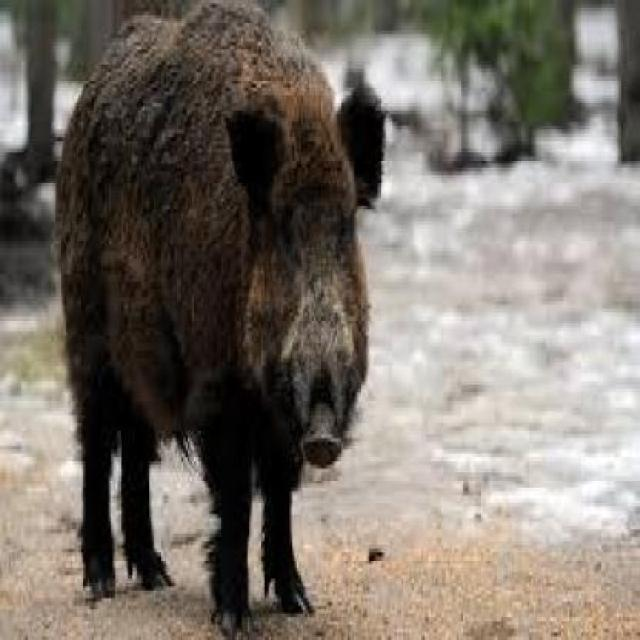wildboar: (52, 0, 406, 640)
